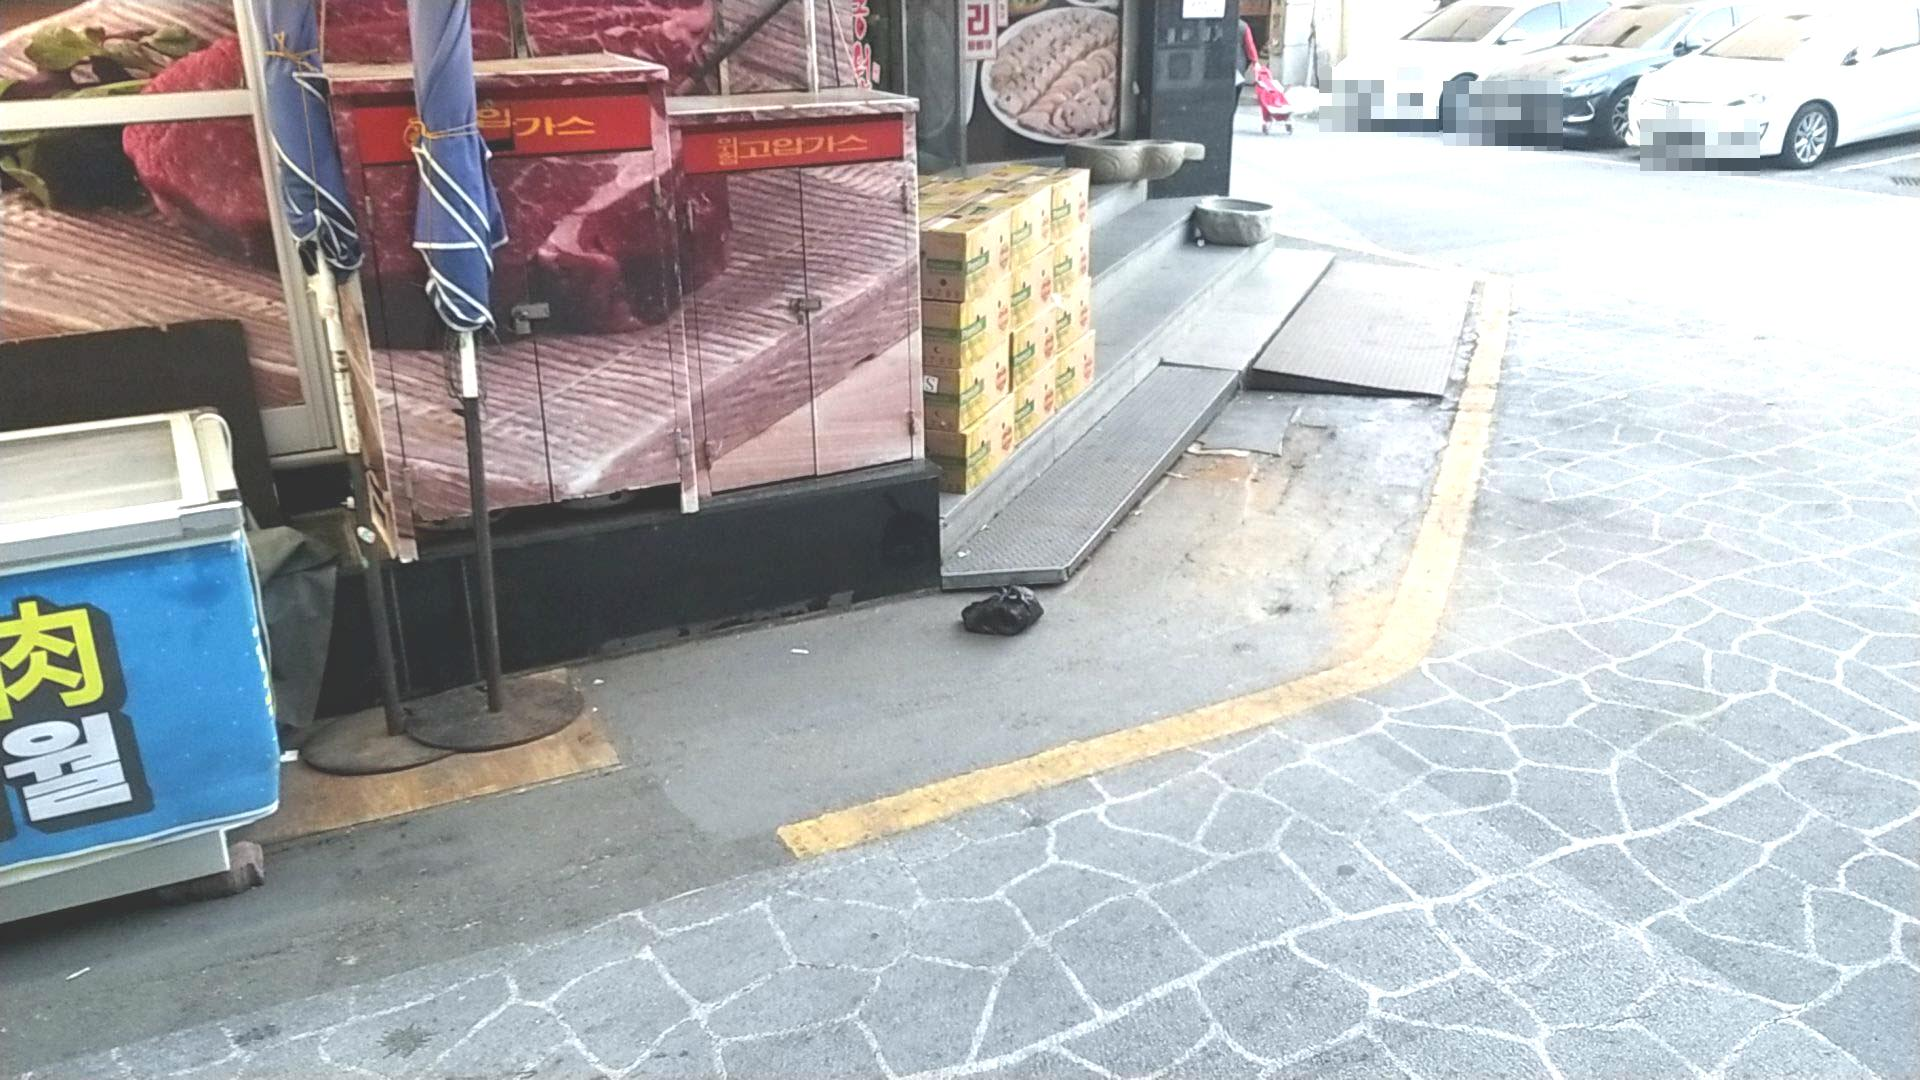black_bag: (952, 579, 1050, 647)
